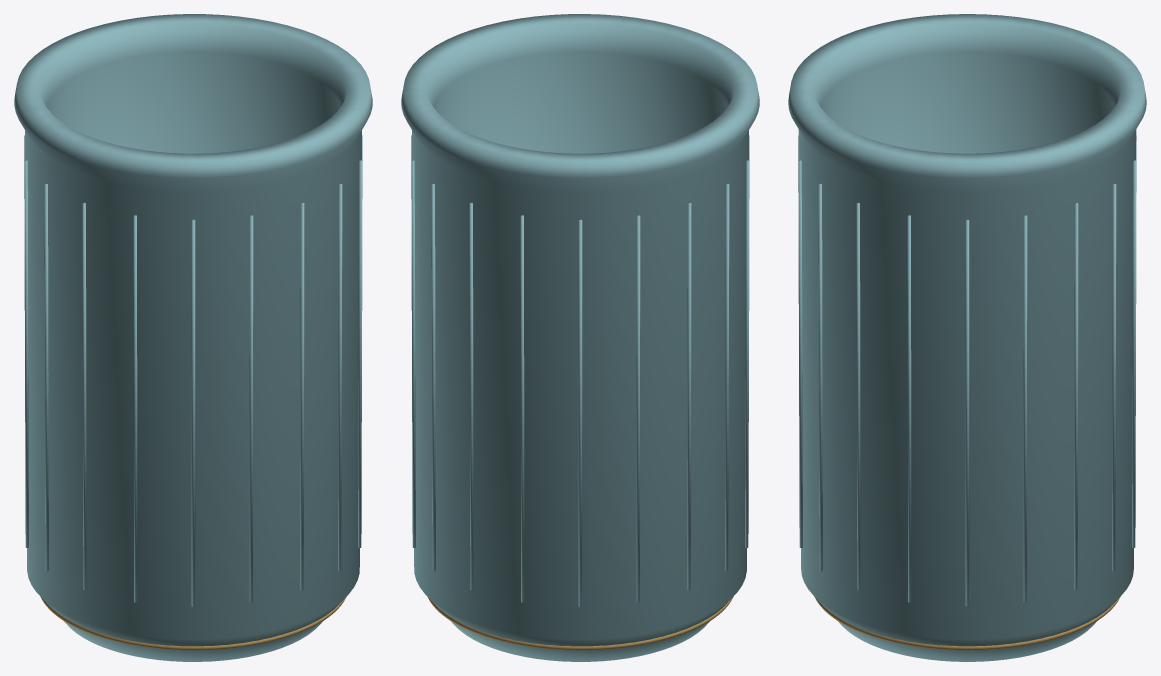
Rendered from Umbrella_Stand.glb.
3 renders of one model, left to right at view 1: azimuth 30°, elevation 25°; view 2: azimuth 150°, elevation 25°; view 3: azimuth 270°, elevation 25°, orthographic.
Parts seen in each view (by area): view 1: Umbrella_Stand_Mesh; view 2: Umbrella_Stand_Mesh; view 3: Umbrella_Stand_Mesh.
Part boxes in pixels (x1,y1,x2,y2): Umbrella_Stand_Mesh: (14,14,372,661); Umbrella_Stand_Mesh: (401,14,759,661); Umbrella_Stand_Mesh: (788,14,1146,661).
Bounding box in the file's own units: 0.306 × 0.486 × 0.306.
